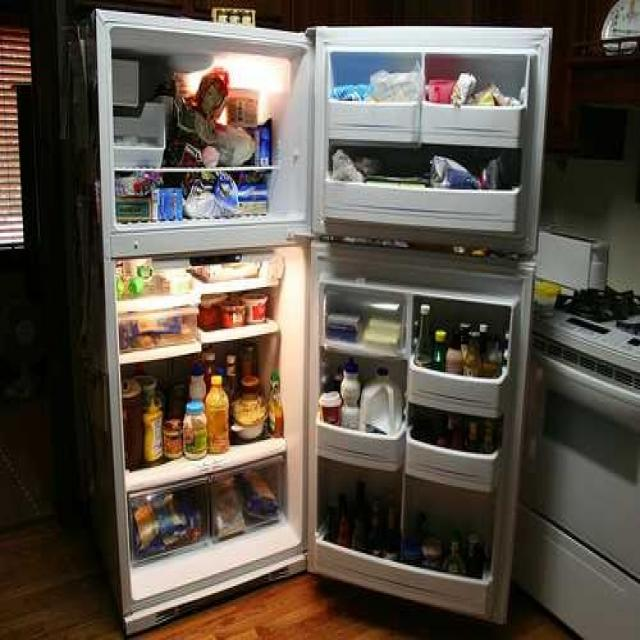refrigerator: (80, 15, 504, 599)
